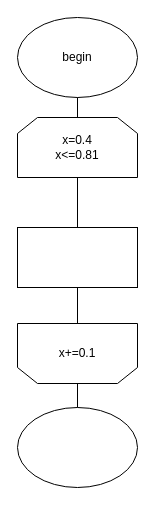
This 155x505 diagram has some shape labels left out. The box of each missing label's shape, as (x1, y1, x2, y2) in pixels:
cout << x << x(1-cos(x)): (16, 226, 138, 288)
end: (16, 406, 138, 488)
